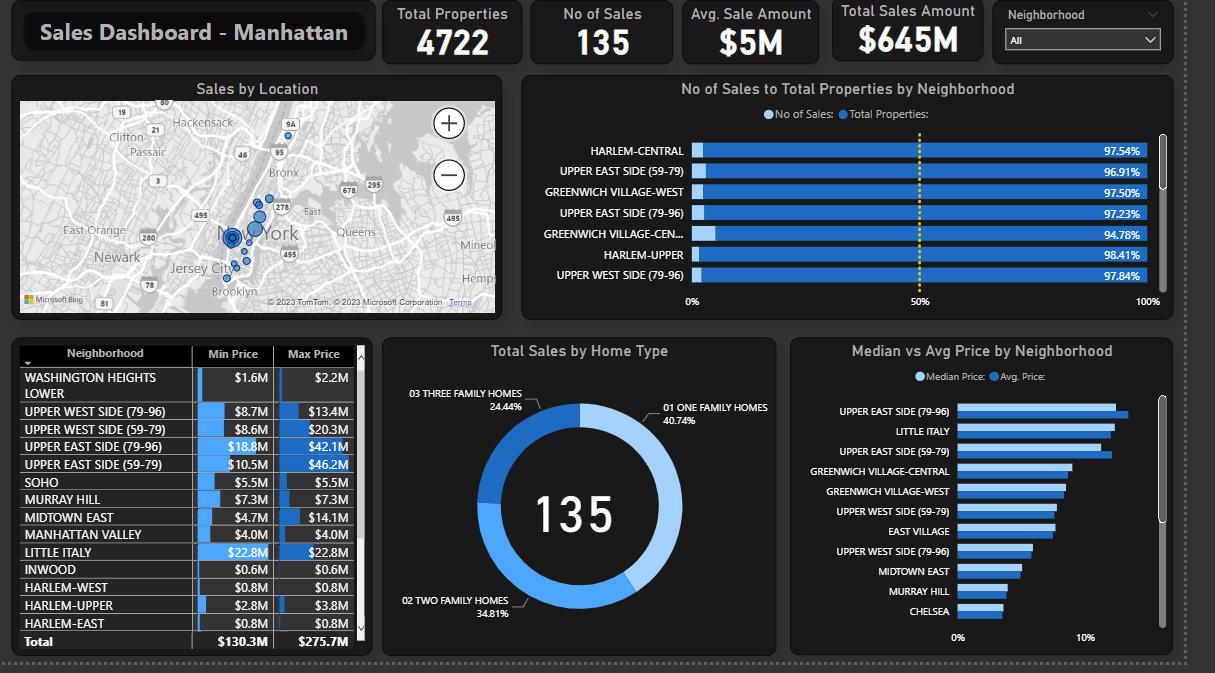

This screenshot's page, from the dashboard's own definition file:
{"tool":"powerbi","page":{"name":"Sales","canvas":[1280,720],"ordinal":0},"visuals":[{"type":"shape","title":"Sales Dashboard - Manhattan","box":[14.3,6.3,392.6,65.3],"z":0},{"type":"card","title":"Total Properties","fields":{"Values":["Sum(dof-summary-of-neighborhood-sales-for-manhattan-for-class-1-2-and-3-family-homes.TOTAL NO. OF PROPERTIES)"]},"box":[414,6,151,69],"z":1000},{"type":"card","title":"Avg. Sale Amount","fields":{"Values":["Avg(dof-summary-of-neighborhood-sales-for-manhattan-for-class-1-2-and-3-family-homes.AVERAGE SALE PRICE)"]},"box":[737,6,148,69],"z":2000},{"type":"card","title":"No of Sales","fields":{"Values":["Sum(dof-summary-of-neighborhood-sales-for-manhattan-for-class-1-2-and-3-family-homes.NUMBER OF SALES)"]},"box":[574,6,154,69],"z":3000},{"type":"card","title":"Total Sales Amount","fields":{"Values":["Sum(dof-summary-of-neighborhood-sales-for-manhattan-for-class-1-2-and-3-family-homes.Total Sales)"]},"box":[899,4,163,69],"z":4000},{"type":"map","title":"Sales by Location","fields":{"Category":["dof-summary-of-neighborhood-sales-for-manhattan-for-class-1-2-and-3-family-homes.Location"],"Size":["Sum(dof-summary-of-neighborhood-sales-for-manhattan-for-class-1-2-and-3-family-homes.NUMBER OF SALES)"]},"box":[14,88,529,264],"z":5000},{"type":"hundredPercentStackedBarChart","title":"No of Sales to Total Properties by Neighborhood","fields":{"Category":["dof-summary-of-neighborhood-sales-for-manhattan-for-class-1-2-and-3-family-homes.NEIGHBORHOOD"],"Y":["Sum(dof-summary-of-neighborhood-sales-for-manhattan-for-class-1-2-and-3-family-homes.NUMBER OF SALES)","Sum(dof-summary-of-neighborhood-sales-for-manhattan-for-class-1-2-and-3-family-homes.TOTAL NO. OF PROPERTIES)"]},"box":[565,88,703,264],"z":6000},{"type":"donutChart","title":"Total Sales by Home Type","fields":{"Category":["dof-summary-of-neighborhood-sales-for-manhattan-for-class-1-2-and-3-family-homes.TYPE OF HOME"],"Y":["Sum(dof-summary-of-neighborhood-sales-for-manhattan-for-class-1-2-and-3-family-homes.NUMBER OF SALES)"]},"box":[414,371,425,343],"z":7000},{"type":"pivotTable","fields":{"Rows":["dof-summary-of-neighborhood-sales-for-manhattan-for-class-1-2-and-3-family-homes.NEIGHBORHOOD"],"Values":["Sum(dof-summary-of-neighborhood-sales-for-manhattan-for-class-1-2-and-3-family-homes.LOWEST SALE PRICE)","Sum(dof-summary-of-neighborhood-sales-for-manhattan-for-class-1-2-and-3-family-homes.HIGHEST SALE PRICE)"]},"box":[14,371,389,343],"z":8000},{"type":"clusteredBarChart","title":"Median vs Avg Price by Neighborhood","fields":{"Category":["dof-summary-of-neighborhood-sales-for-manhattan-for-class-1-2-and-3-family-homes.NEIGHBORHOOD"],"Y":["Sum(dof-summary-of-neighborhood-sales-for-manhattan-for-class-1-2-and-3-family-homes.MEDIAN SALE PRICE)","Sum(dof-summary-of-neighborhood-sales-for-manhattan-for-class-1-2-and-3-family-homes.AVERAGE SALE PRICE)"]},"box":[855.1,371.2,413.2,342.6],"z":9000},{"type":"slicer","fields":{"Values":["dof-summary-of-neighborhood-sales-for-manhattan-for-class-1-2-and-3-family-homes.NEIGHBORHOOD"]},"box":[1073,6,195,69],"z":10000},{"type":"card","fields":{"Values":["Sum(dof-summary-of-neighborhood-sales-for-manhattan-for-class-1-2-and-3-family-homes.NUMBER OF SALES)"]},"box":[565,504,110,98],"z":11000}]}

Visuals, with their boxes in screenshot pixels (x1, y1, x2, y2), scaled from the page's 1280x720 canvas onto the 1215x673 screenshot:
"Sales Dashboard - Manhattan" shape: {"left": 14, "top": 6, "right": 386, "bottom": 67}
"Total Properties" card: {"left": 393, "top": 6, "right": 536, "bottom": 70}
"Avg. Sale Amount" card: {"left": 700, "top": 6, "right": 840, "bottom": 70}
"No of Sales" card: {"left": 545, "top": 6, "right": 691, "bottom": 70}
"Total Sales Amount" card: {"left": 853, "top": 4, "right": 1008, "bottom": 68}
"Sales by Location" map: {"left": 13, "top": 82, "right": 515, "bottom": 329}
"No of Sales to Total Properties by Neighborhood" hundredPercentStackedBarChart: {"left": 536, "top": 82, "right": 1204, "bottom": 329}
"Total Sales by Home Type" donutChart: {"left": 393, "top": 347, "right": 796, "bottom": 667}
pivotTable - dof-summary-of-neighborhood-sales-for-manhattan-for-class-1-2-and-3-family-homes.NEIGHBORHOOD x Sum(dof-summary-of-neighborhood-sales-for-manhattan-for-class-1-2-and-3-family-homes.LOWEST SALE PRICE): {"left": 13, "top": 347, "right": 383, "bottom": 667}
"Median vs Avg Price by Neighborhood" clusteredBarChart: {"left": 812, "top": 347, "right": 1204, "bottom": 667}
slicer - dof-summary-of-neighborhood-sales-for-manhattan-for-class-1-2-and-3-family-homes.NEIGHBORHOOD: {"left": 1019, "top": 6, "right": 1204, "bottom": 70}
card - Sum(dof-summary-of-neighborhood-sales-for-manhattan-for-class-1-2-and-3-family-homes.NUMBER OF SALES): {"left": 536, "top": 471, "right": 641, "bottom": 563}
